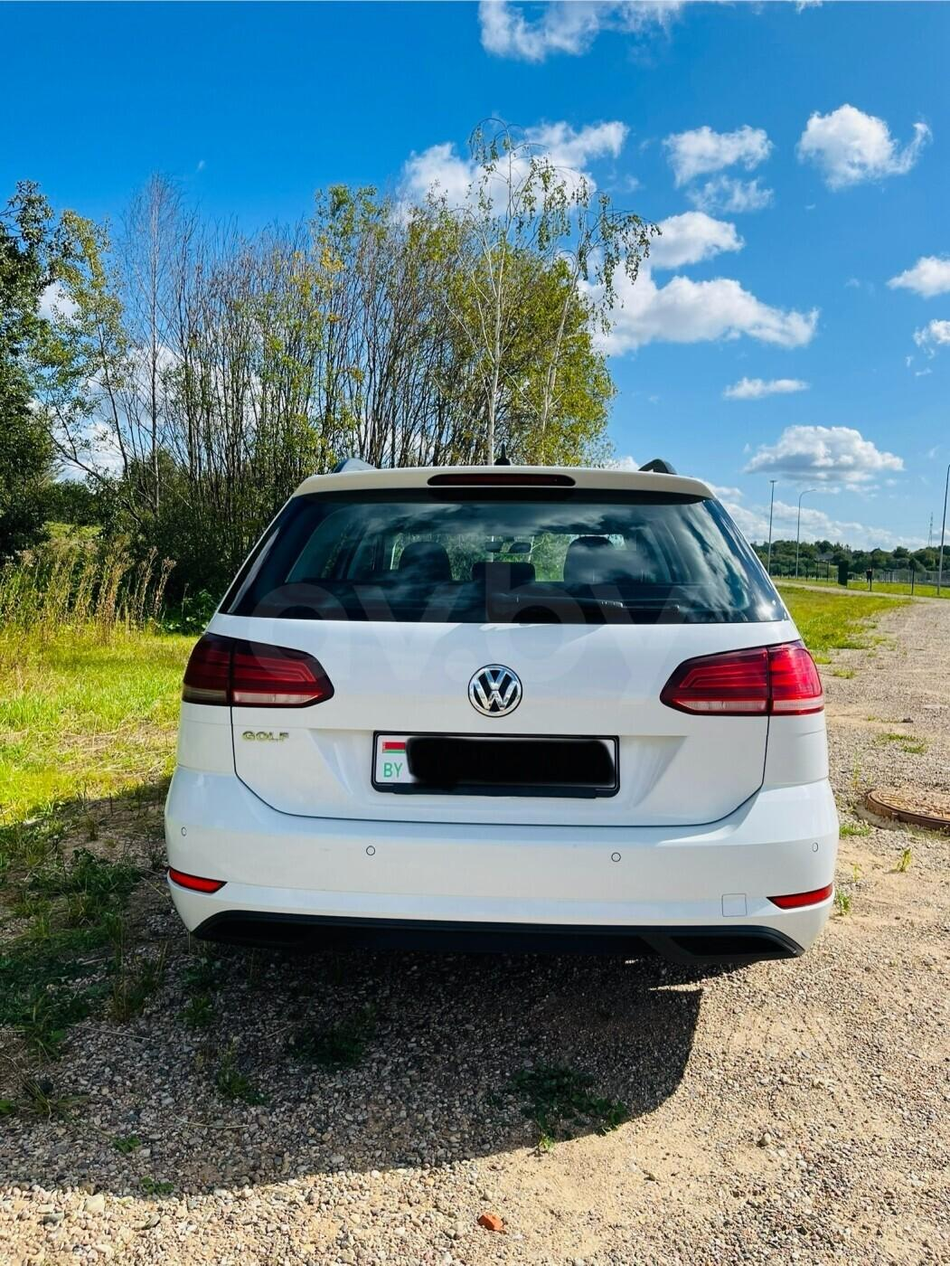Golf_2017-2021: (154, 448, 854, 993)
